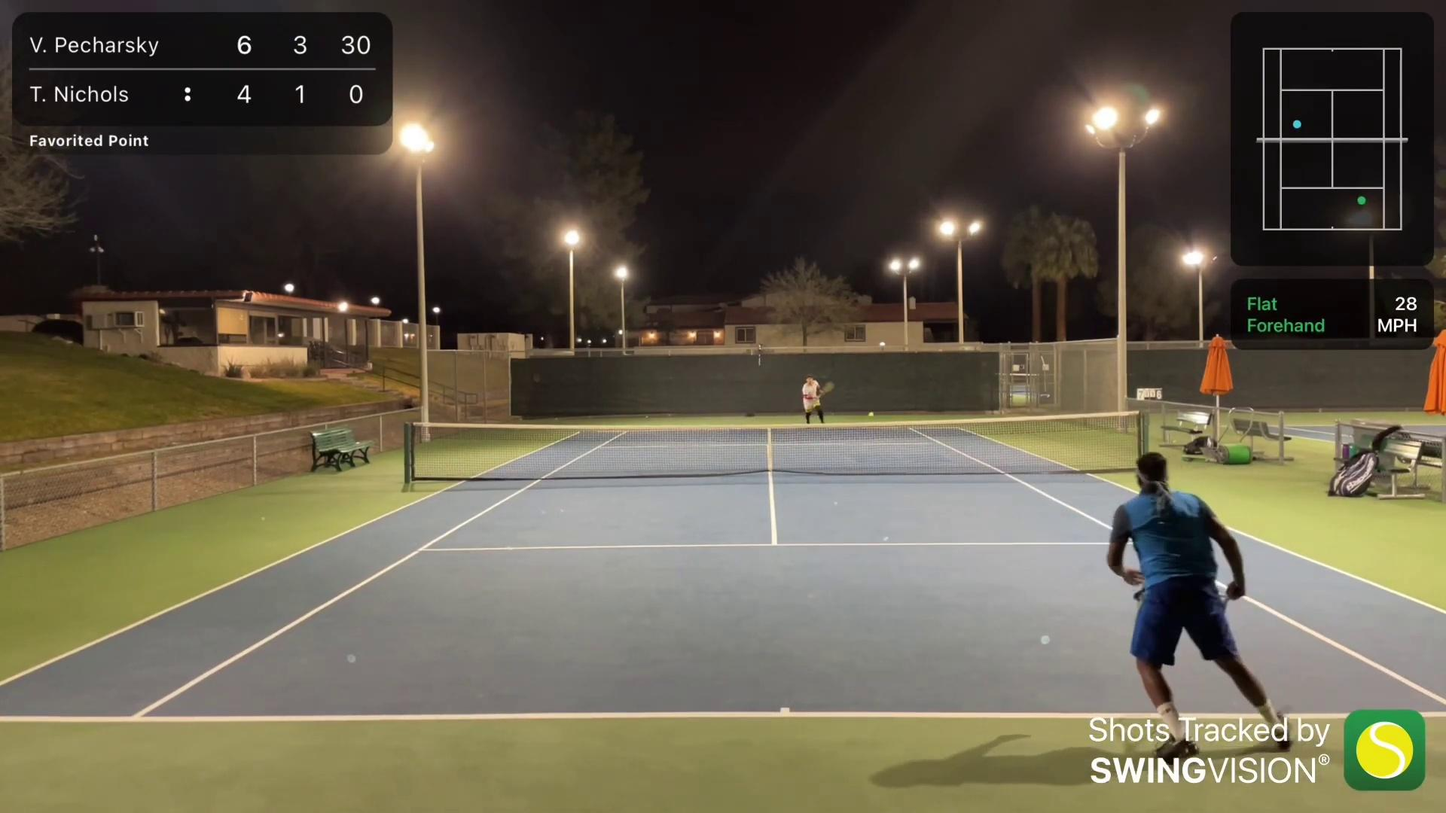ball: (864, 407, 879, 422)
